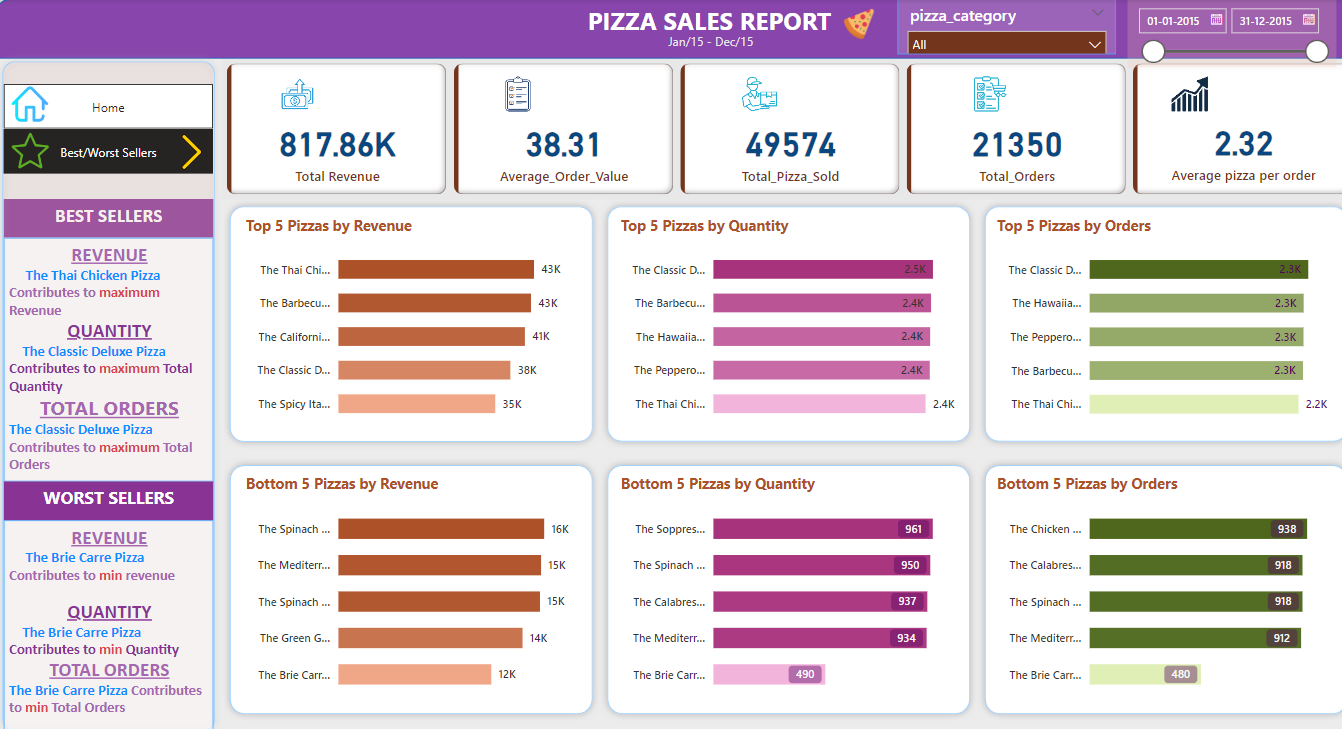

The page's visual inventory and layout, read from the dashboard file:
{"tool":"powerbi","page":{"name":"Best/Worst Sellers","canvas":[1500,820],"ordinal":1},"visuals":[{"type":"cardVisual","fields":{"Data":["pizza_sales.Total Revenue","pizza_sales.Average_Order_Value","pizza_sales.Total_Pizza_Sold","pizza_sales.Total_Orders","pizza_sales.Average pizza per order"]},"box":[250,65.7,1250,154.3],"z":0},{"type":"shape","box":[0,0,1498.6,65.7],"z":1000},{"type":"textbox","box":[638.6,0,292.9,48.6],"z":2000},{"type":"textbox","box":[711.4,32.9,150,32.9],"z":3000},{"type":"image","box":[907.1,5.7,85.7,44.3],"z":4000},{"type":"shape","box":[250,220,415,275],"z":5000},{"type":"shape","box":[664.8,219.8,414.8,274.7],"z":6000},{"type":"shape","box":[250,504.1,414.8,289.8],"z":7000},{"type":"shape","box":[664.8,504.1,414.8,289.8],"z":8000},{"type":"shape","box":[1079.6,504.1,414.8,289.8],"z":9000},{"type":"textbox","box":[9.6,219.8,230.8,42.6],"z":10000},{"type":"shape","box":[0,60.4,250,752.7],"z":11000},{"type":"textbox","box":[9.6,262.3,230.8,267.8],"z":12000},{"type":"textbox","box":[9.6,572.8,230.8,230.8],"z":13000},{"type":"textbox","box":[9.6,530.2,230.8,42.6],"z":14000},{"type":"slicer","fields":{"Values":["pizza_sales.pizza_category"]},"box":[991.7,0,240.4,60.4],"z":15000},{"type":"slicer","fields":{"Values":["pizza_sales.order_date"]},"box":[1244.4,0,229.4,75.5],"z":16000},{"type":"shape","box":[1079.6,219.8,414.8,274.7],"z":17000},{"type":"barChart","title":"Top 5 Pizzas by Revenue","fields":{"Y":["pizza_sales.Total Revenue"],"Category":["pizza_sales.pizza_name"]},"box":[270.6,237.6,377.7,239],"z":18000},{"type":"barChart","title":"Bottom 5 Pizzas by Revenue","fields":{"Category":["pizza_sales.pizza_name"],"Y":["pizza_sales.Total Revenue"]},"box":[270.2,521,377.9,255.7],"z":19000},{"type":"barChart","title":"Top 5 Pizzas by Quantity","fields":{"Category":["pizza_sales.pizza_name"],"Y":["pizza_sales.Total_Pizza_Sold"]},"box":[682.6,237.6,377.7,239],"z":20000},{"type":"barChart","title":"Bottom 5 Pizzas by Quantity","fields":{"Category":["pizza_sales.pizza_name"],"Y":["pizza_sales.Total_Pizza_Sold"]},"box":[683.4,521,377.9,255.7],"z":21000},{"type":"barChart","title":"Top 5 Pizzas by Orders","fields":{"Category":["pizza_sales.pizza_name"],"Y":["pizza_sales.Total_Orders"]},"box":[1096.7,238,377.9,239.6],"z":22000},{"type":"barChart","title":"Bottom 5 Pizzas by Orders","fields":{"Category":["pizza_sales.pizza_name"],"Y":["pizza_sales.Total_Orders"]},"box":[1096.7,521,377.9,255.7],"z":23000},{"type":"pageNavigator","box":[9.6,142.8,230.8,49.4],"z":24000},{"type":"pageNavigator","box":[9.6,93.4,230.8,49.4],"z":25000},{"type":"image","box":[192.3,140.1,48.1,56.3],"z":26000},{"type":"image","box":[9.6,90.7,57.7,49.4],"z":27000},{"type":"image","box":[9.6,141.5,57.7,50.8],"z":28000}]}

Visuals, with their boxes in screenshot pixels (x1, y1, x2, y2), scaled from the page's 1500x820 canvas onto the 1342x729 screenshot:
cardVisual - pizza_sales.Total Revenue x pizza_sales.Average_Order_Value: x1=224, y1=58, x2=1341, y2=196
shape: x1=0, y1=0, x2=1341, y2=58
textbox: x1=571, y1=0, x2=833, y2=43
textbox: x1=636, y1=29, x2=771, y2=58
image: x1=812, y1=5, x2=888, y2=44
shape: x1=224, y1=196, x2=595, y2=440
shape: x1=595, y1=195, x2=966, y2=440
shape: x1=224, y1=448, x2=595, y2=706
shape: x1=595, y1=448, x2=966, y2=706
shape: x1=966, y1=448, x2=1337, y2=706
textbox: x1=9, y1=195, x2=215, y2=233
shape: x1=0, y1=54, x2=224, y2=723
textbox: x1=9, y1=233, x2=215, y2=471
textbox: x1=9, y1=509, x2=215, y2=714
textbox: x1=9, y1=471, x2=215, y2=509
slicer - pizza_sales.pizza_category: x1=887, y1=0, x2=1102, y2=54
slicer - pizza_sales.order_date: x1=1113, y1=0, x2=1319, y2=67
shape: x1=966, y1=195, x2=1337, y2=440
"Top 5 Pizzas by Revenue" barChart: x1=242, y1=211, x2=580, y2=424
"Bottom 5 Pizzas by Revenue" barChart: x1=242, y1=463, x2=580, y2=691
"Top 5 Pizzas by Quantity" barChart: x1=611, y1=211, x2=949, y2=424
"Bottom 5 Pizzas by Quantity" barChart: x1=611, y1=463, x2=950, y2=691
"Top 5 Pizzas by Orders" barChart: x1=981, y1=212, x2=1319, y2=425
"Bottom 5 Pizzas by Orders" barChart: x1=981, y1=463, x2=1319, y2=691
pageNavigator: x1=9, y1=127, x2=215, y2=171
pageNavigator: x1=9, y1=83, x2=215, y2=127
image: x1=172, y1=125, x2=215, y2=175
image: x1=9, y1=81, x2=60, y2=125
image: x1=9, y1=126, x2=60, y2=171
